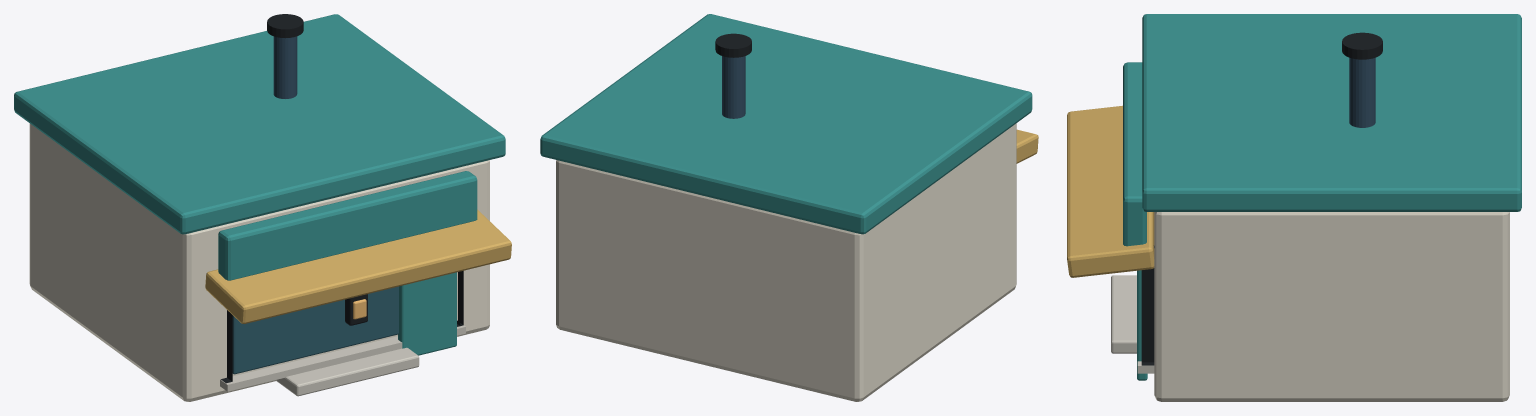
The model's file is COM_LOW_1x1_002.glb.
3 views of the same model, side by side, from view 1: azimuth 30°, elevation 25°; view 2: azimuth 150°, elevation 25°; view 3: azimuth 270°, elevation 25° (orthographic). The views are drawn at different scales.
Parts seen in each view (by area): view 1: COM_LOW_1x1_002_Visual; view 2: COM_LOW_1x1_002_Visual; view 3: COM_LOW_1x1_002_Visual.
Boxes of the visible parts, box(x1,y1,x2,y2) form: COM_LOW_1x1_002_Visual: box(14, 14, 511, 401); COM_LOW_1x1_002_Visual: box(540, 14, 1038, 401); COM_LOW_1x1_002_Visual: box(1067, 14, 1521, 401).
Size of what is drawn, in the model's own units: 1.75 by 1.38 by 1.89.
